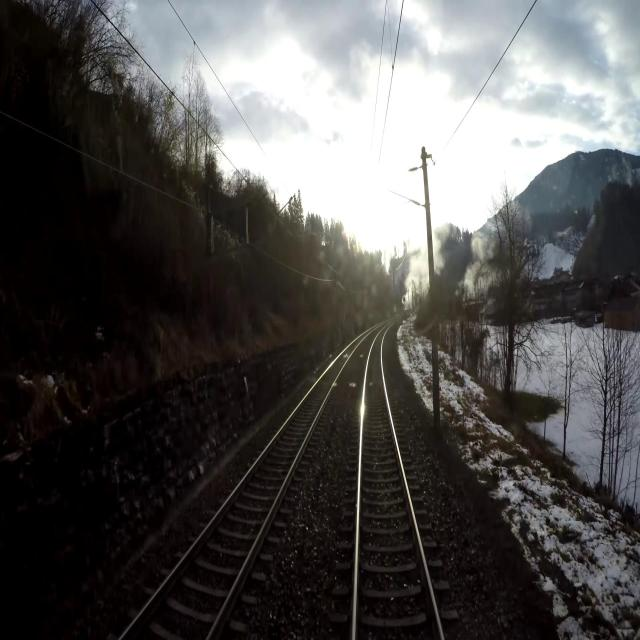rail-track: (124, 340, 358, 639), (356, 329, 440, 639)
